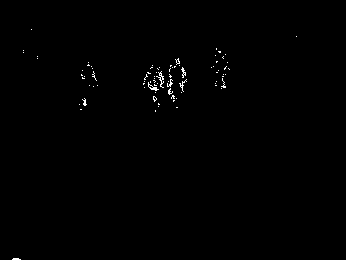person: (167, 56, 187, 109), (78, 61, 96, 115), (145, 61, 161, 114)
